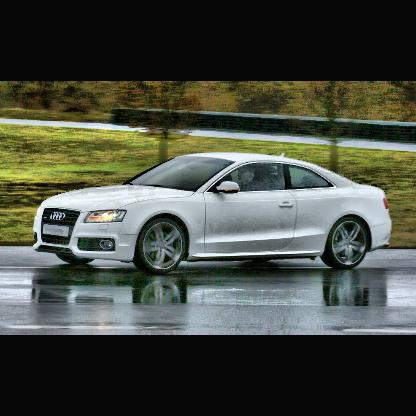Audi A5 Coupe 2012: (31, 150, 395, 279)
